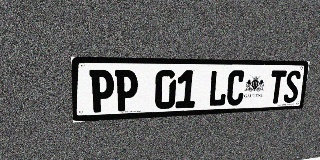0: (154, 70, 177, 110)
1: (175, 70, 197, 108)
C: (226, 70, 246, 106)
L: (208, 70, 228, 107)
P: (89, 70, 114, 113), (115, 70, 138, 111)
S: (283, 70, 301, 103)
T: (268, 70, 287, 104)
